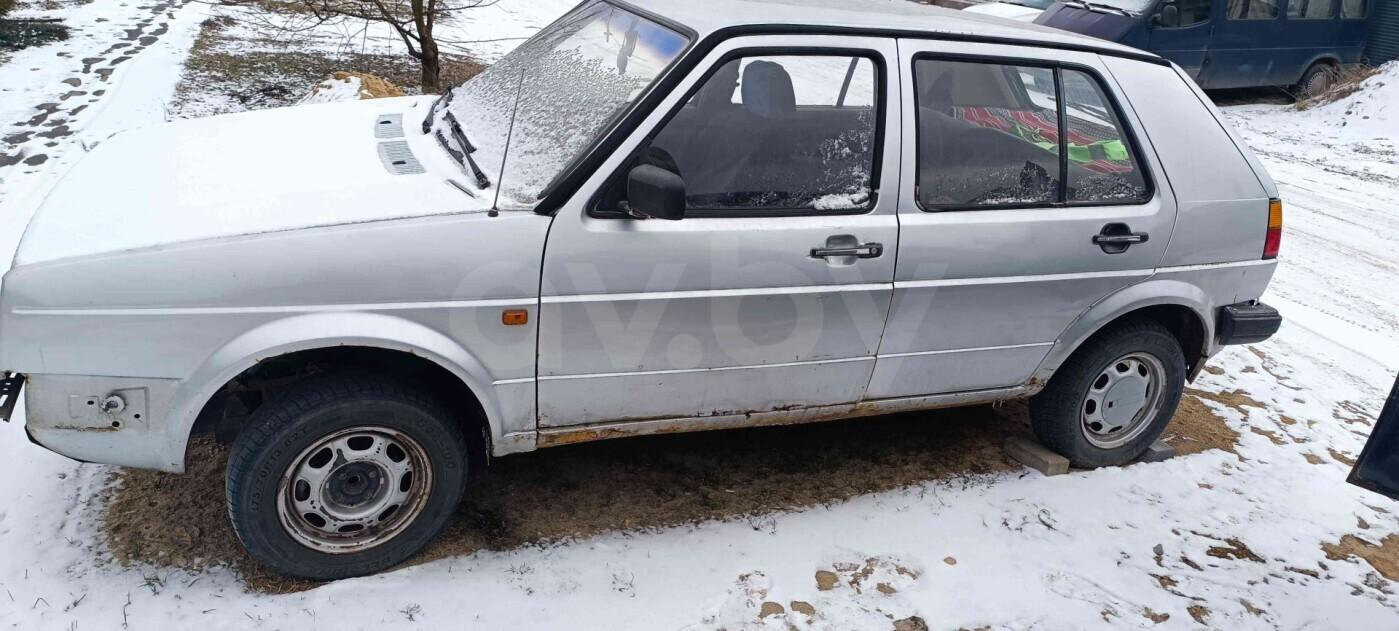Golf_1983-1992: (0, 0, 1286, 572)
